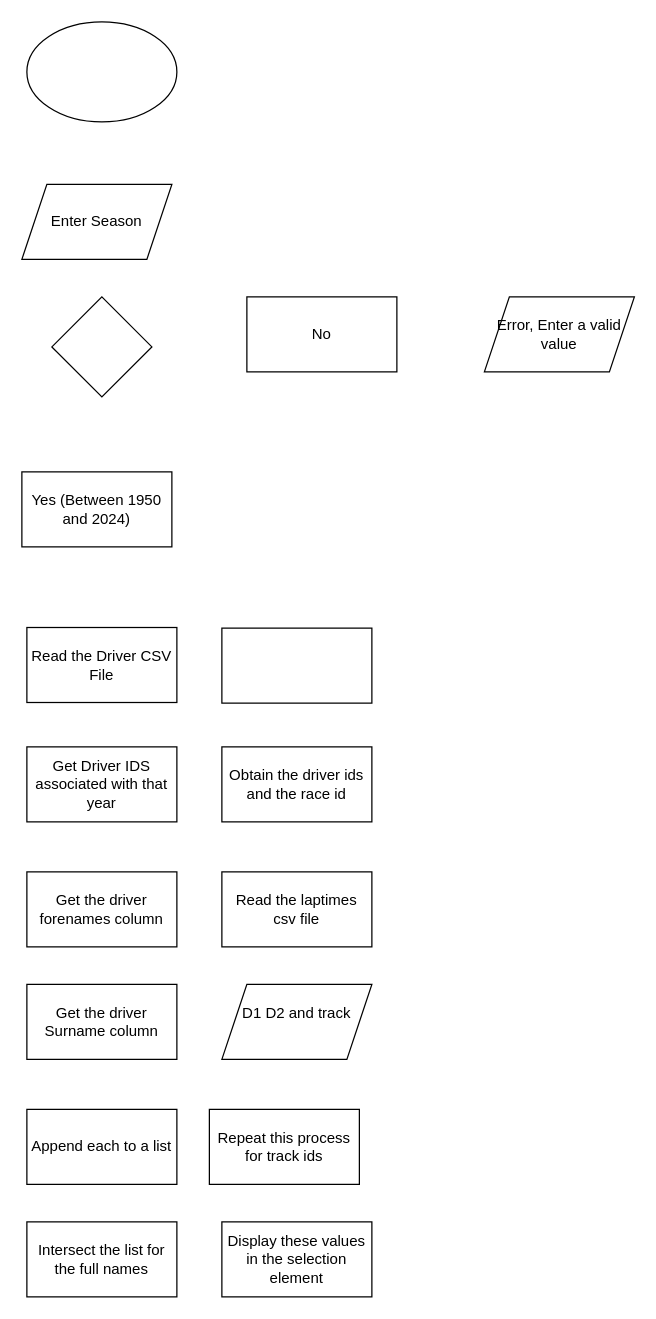
The diagram is 656 pixels wide and 1319 high, and some of its shapes have lost their labels. The shapes that lost their labels are listed below. From the top down, each one's centre as x and y in pixels, then its label:
point (101, 71): Laptimes FX
point (101, 346): Is input valid
